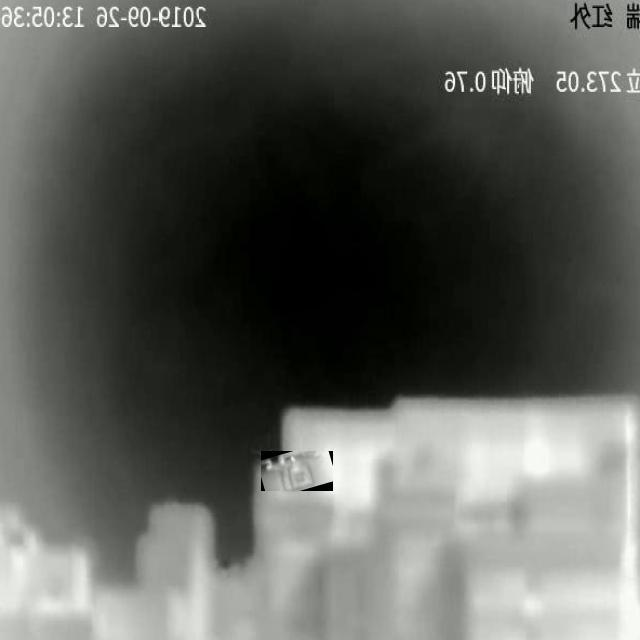drone: (261, 451, 325, 491)
